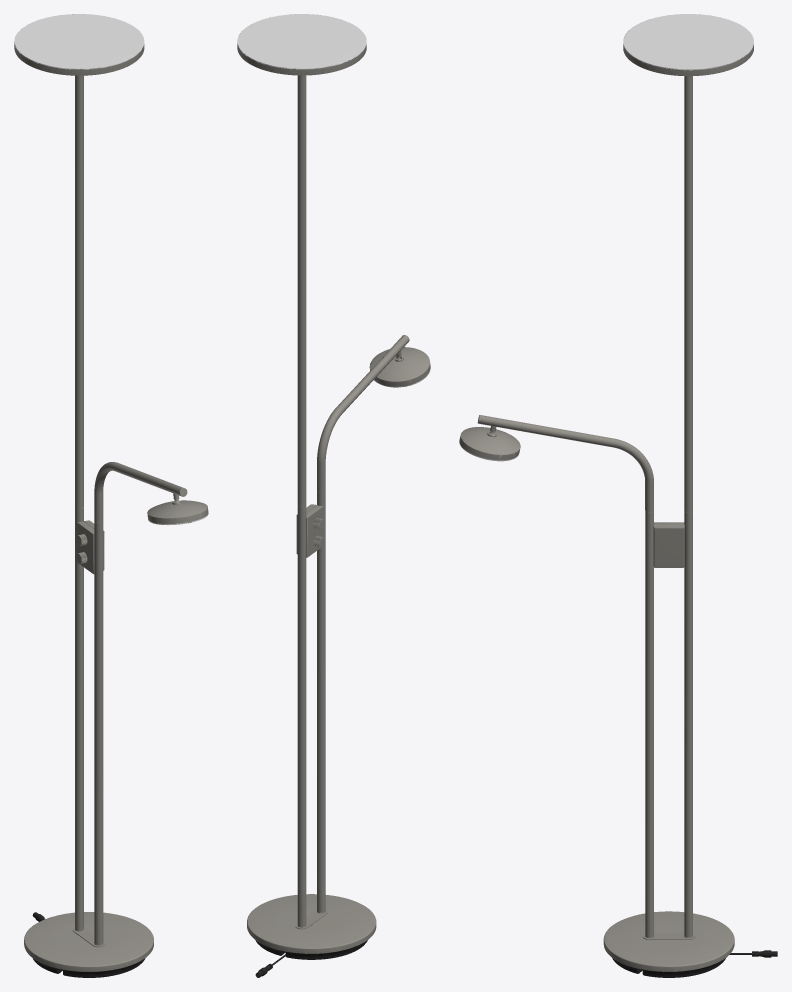
File: isjakt_led_floor_uplighter_reading_lamp_.glb
3 views of the same model, side by side, from view 1: azimuth 30°, elevation 25°; view 2: azimuth 150°, elevation 25°; view 3: azimuth 270°, elevation 25° (orthographic).
Parts seen in each view (by area): view 1: Mesh_1; view 2: Mesh_1; view 3: Mesh_1.
Boxes of the visible parts, x1,y1,x2,y2 form: Mesh_1: (14, 14, 208, 977); Mesh_1: (237, 14, 430, 977); Mesh_1: (459, 14, 777, 977).
Bounding box in the file's own units: 0.235 × 1.81 × 0.5717.
2 materials, 1 textured.
